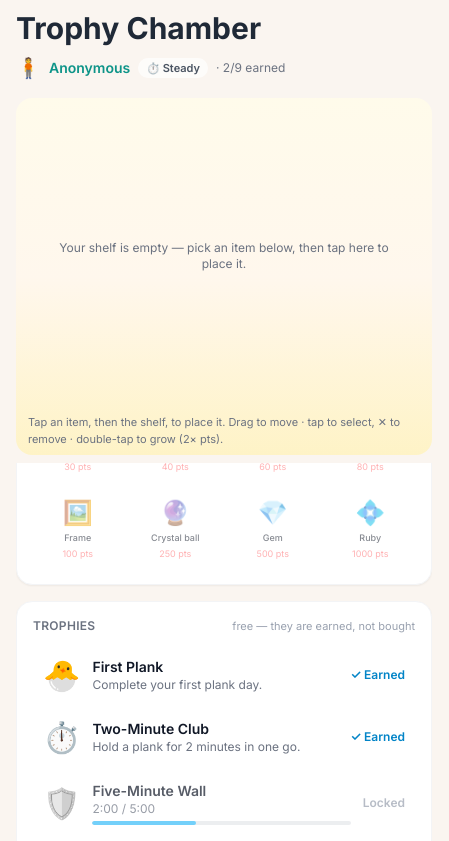
Test: Chamber page › picks up an earned trophy, places it on the shelf, and removes it
(page scrolled)
Pick it up from the case (the hint bar with a Drop button appears).
Click the button "First Plank" at (224, 674), box [33,646,415,702]
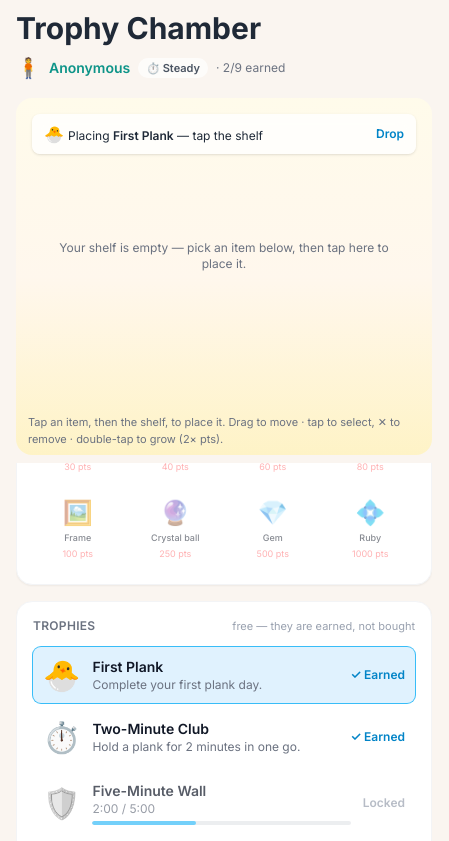
Expected: the button "Drop" is shown, [376,126,404,142]
Tap the shelf: placed at the tap position (100,150 of 400x300 → 25%,50%).
Click the element "shelf" at (224, 134), box [32,114,416,271]
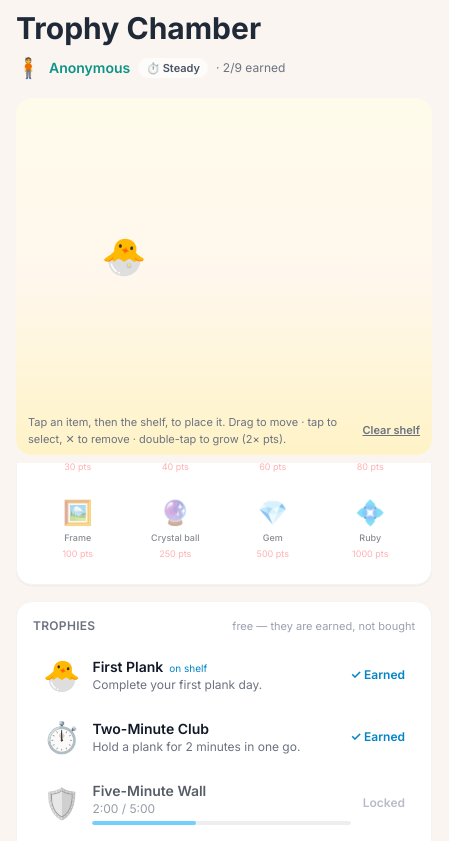
Expected: the button named "First Plank on the shelf" is shown
Expected: the text "on shelf" is shown, [169,662,207,674]
Expected: the button "Drop" is gone
Tap the item to select it, then remove it with ✕.
Click the button named "First Plank on the shelf" at (124, 256), box [102,238,146,274]
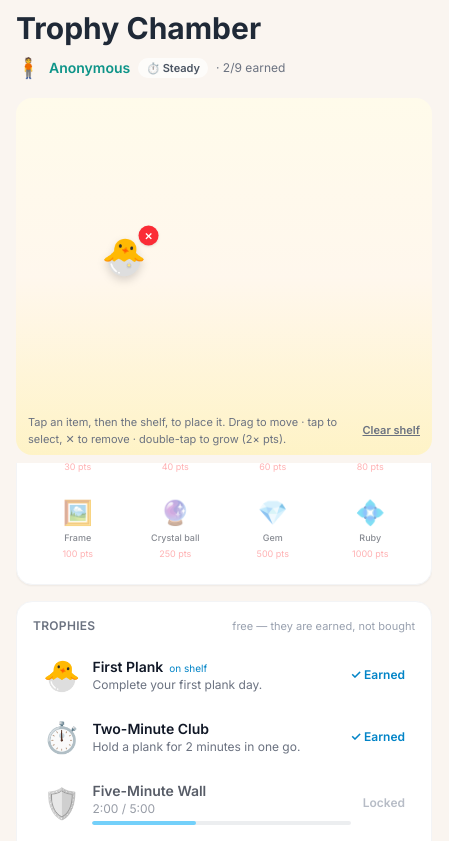
Expected: the button named "Remove First Plank" is shown
Click the button named "Remove First Plank" at (148, 236), box [138,226,158,246]
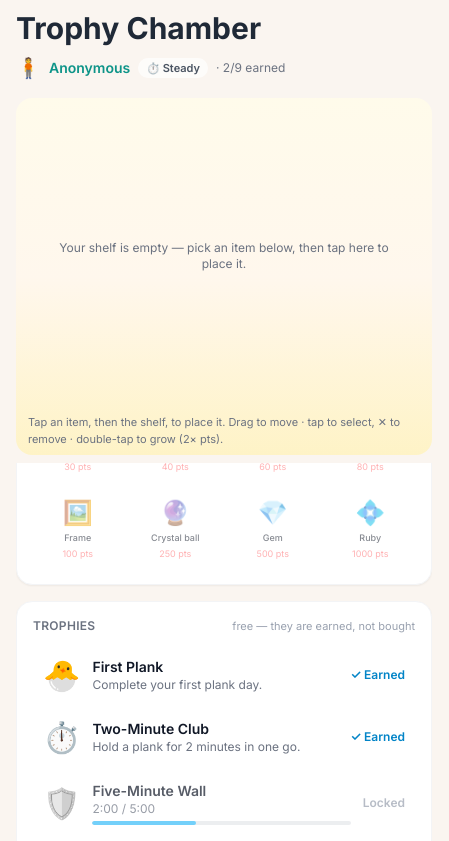
Expected: the text "on shelf" is gone
